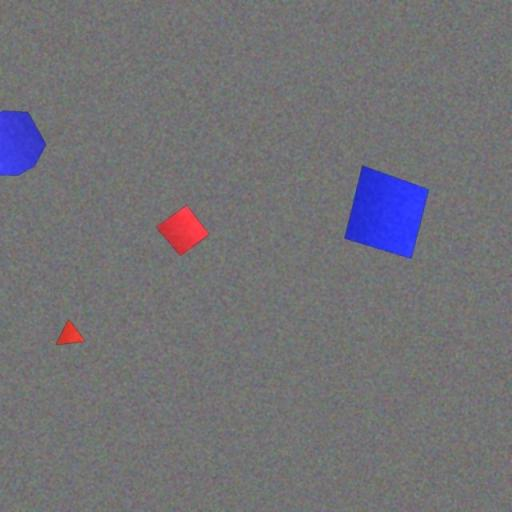BLUE_SQUARE: (344, 165, 430, 260)
RED_SQUARE: (156, 204, 210, 257)
